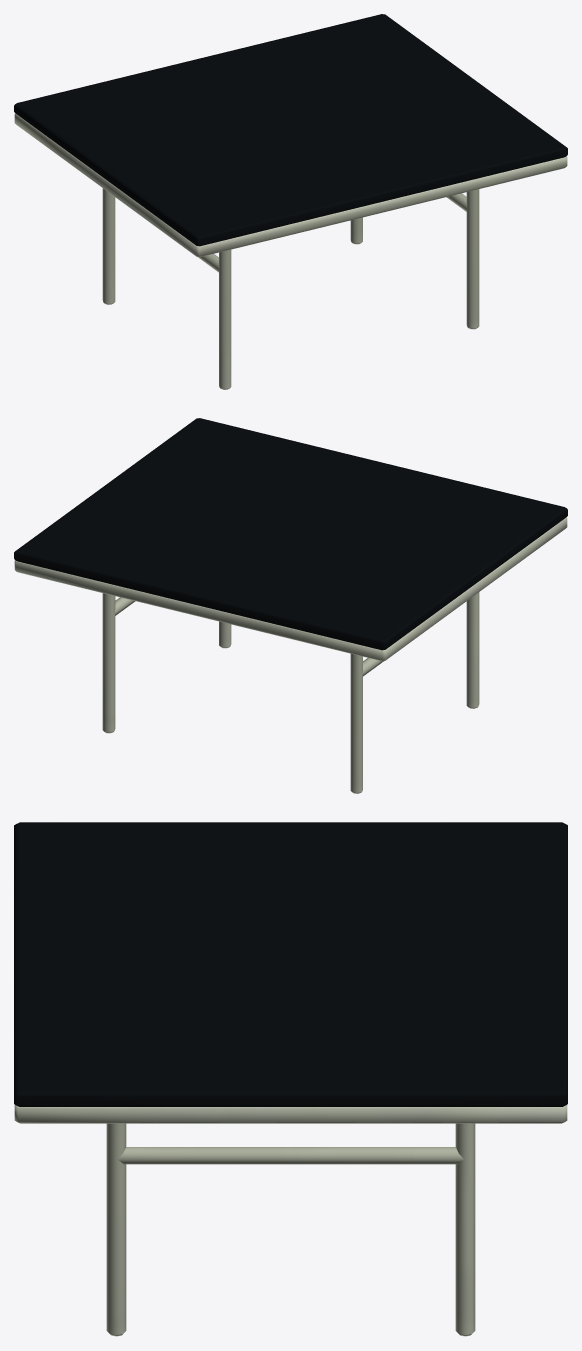
The picture shows the model from 3 angles, top to bottom: view 1: azimuth 30°, elevation 25°; view 2: azimuth 150°, elevation 25°; view 3: azimuth 270°, elevation 25°; orthographic projection. The views are drawn at different scales.
Size of the model in its own units: 18.99 by 9.25 by 16.31.
2 materials, 2 textured.
